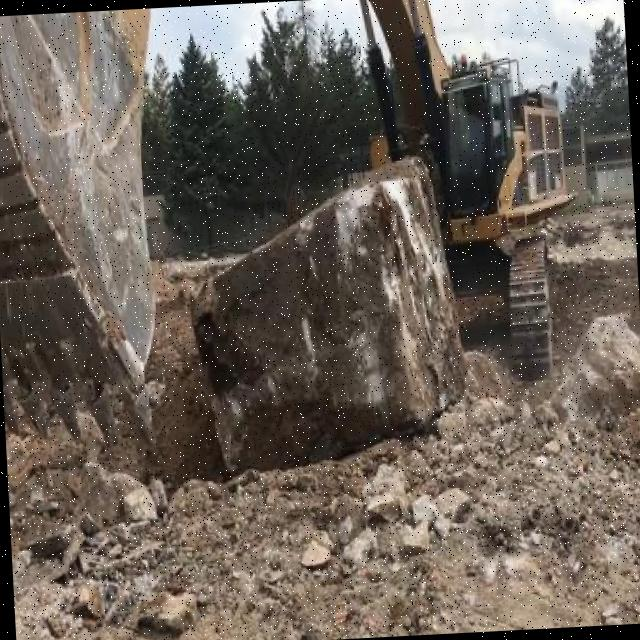Excavator: (0, 0, 582, 442)
